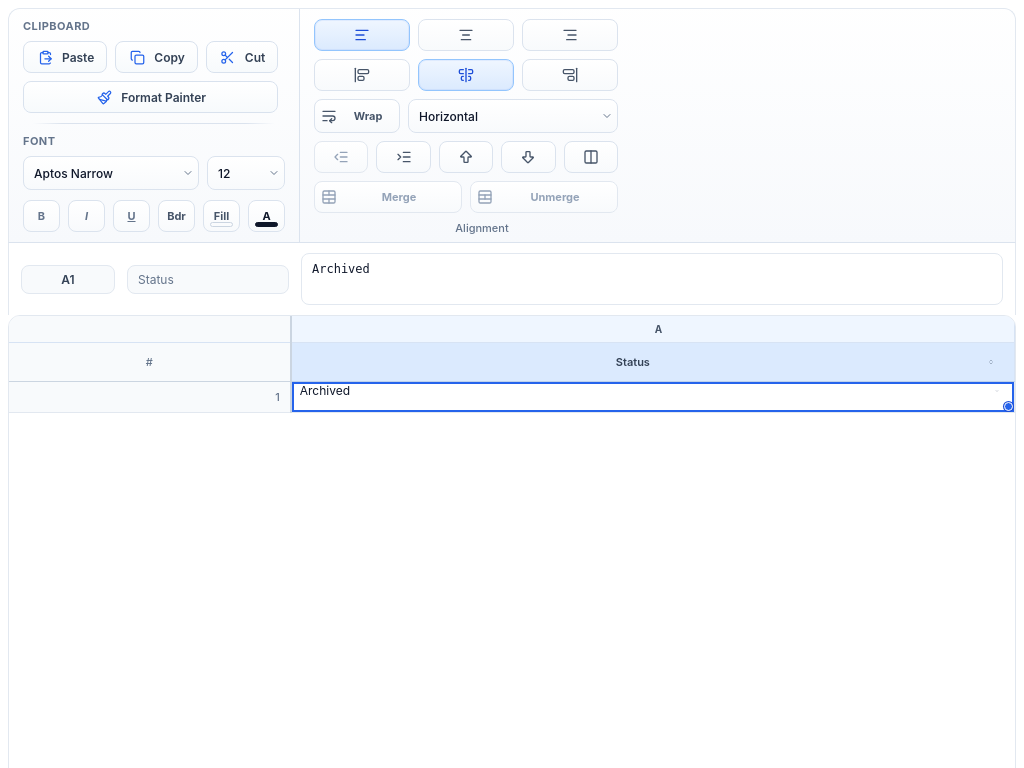
it: SelectEditor with a stored value outside the options › does not coerce the stale value when the editor blurs
Double-click the element with class "gm-cell-shell" at (325, 390), box [300,382,1006,412]
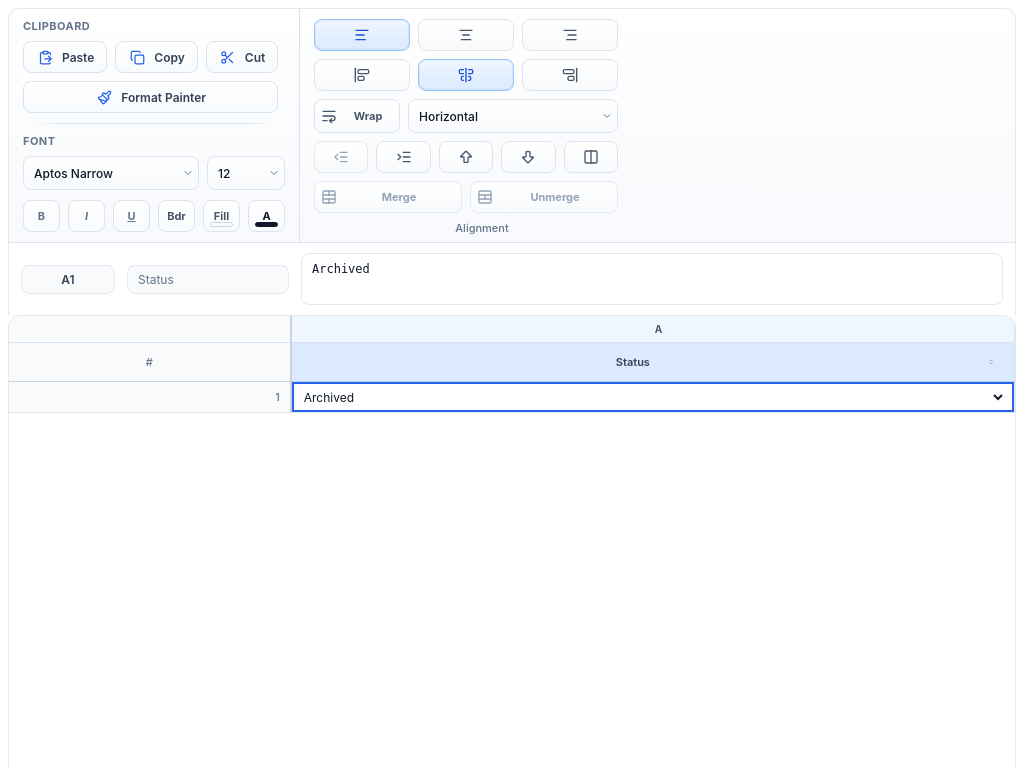
Leave the 4th dropdown, box [300,382,1006,412]
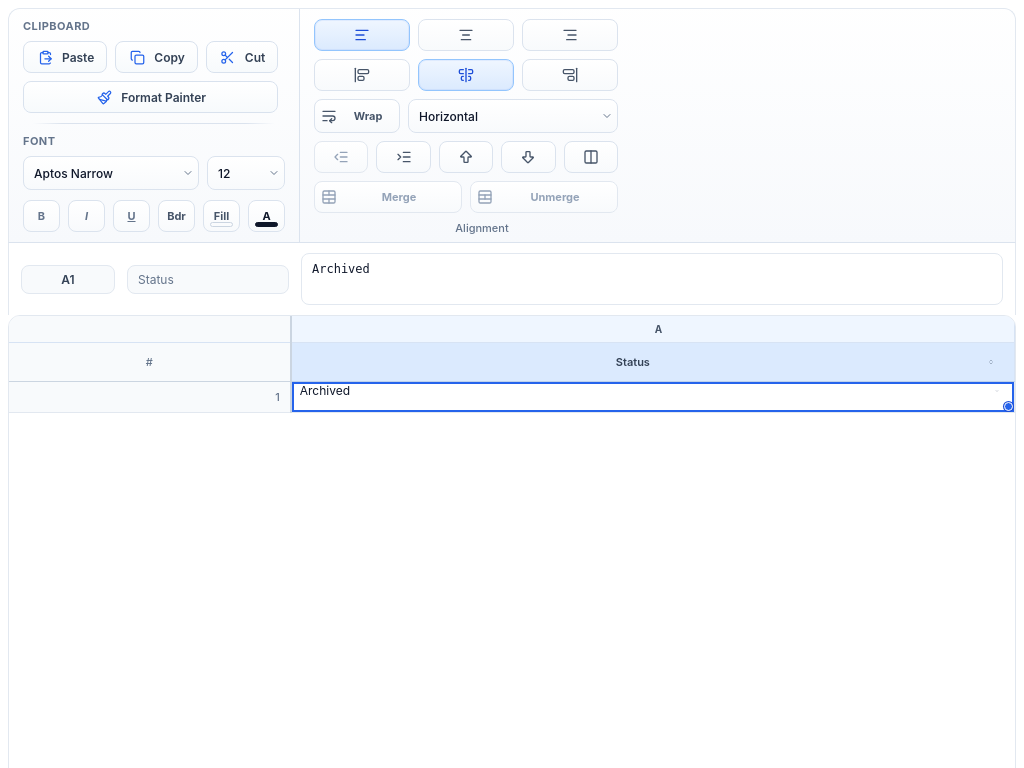
Now the text with class "gm-select-cell-value" reads "Archived", box [300,383,350,398]
